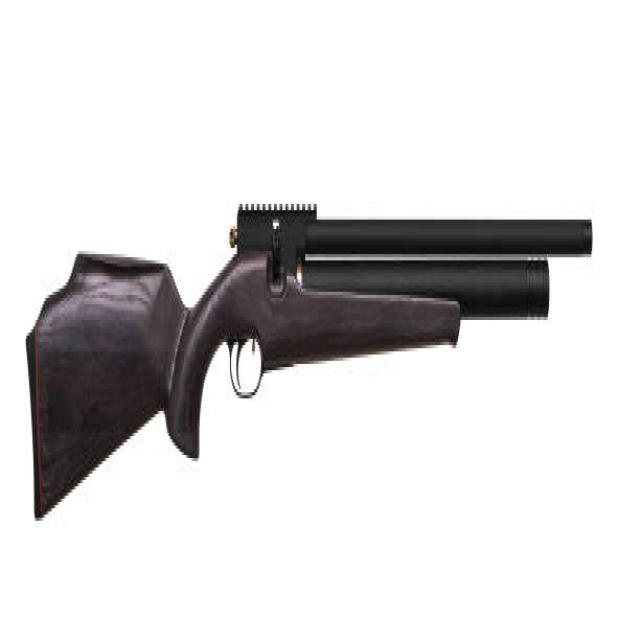rifle: (23, 182, 598, 536)
